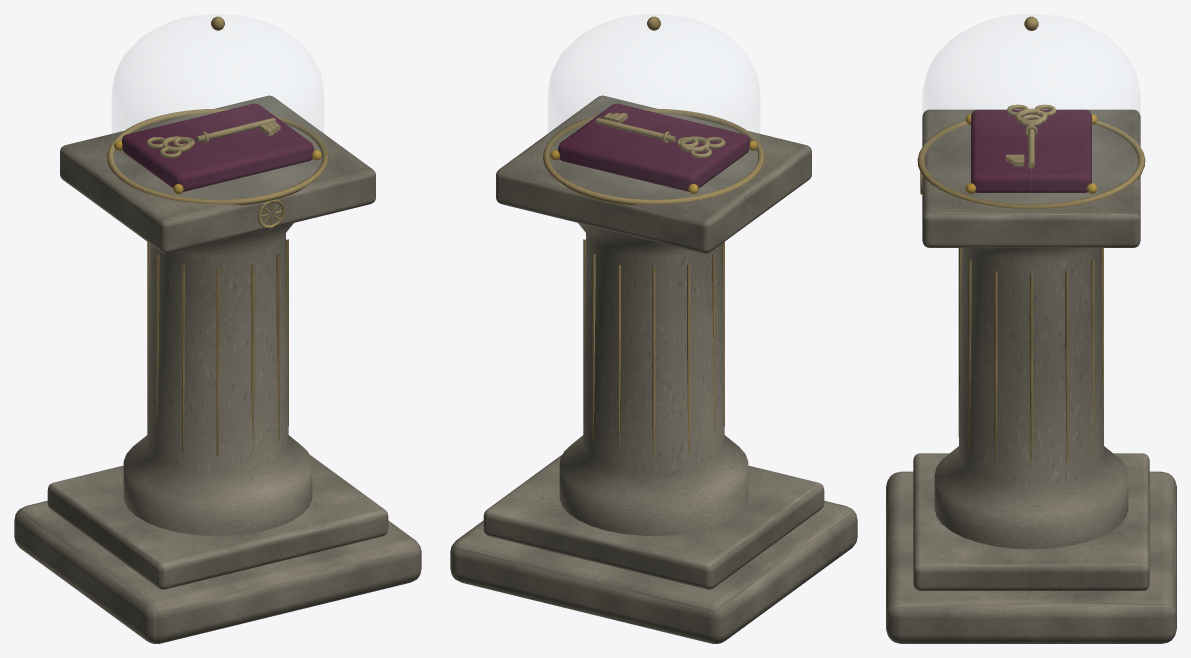
3 renders of one model, left to right at view 1: azimuth 30°, elevation 25°; view 2: azimuth 150°, elevation 25°; view 3: azimuth 270°, elevation 25°, orthographic. The views are drawn at different scales.
Parts seen in each view (by area): view 1: dressed stone, tooled stone trim, blown glass, velvet cushion, aged brass fittings; view 2: dressed stone, tooled stone trim, blown glass, velvet cushion, aged brass fittings; view 3: dressed stone, blown glass, tooled stone trim, velvet cushion, aged brass fittings.
Boxes of the visible parts, x1,y1,x2,y2 form: dressed stone: (14, 223, 421, 643); tooled stone trim: (47, 95, 388, 589); blown glass: (112, 14, 323, 198); velvet cushion: (122, 103, 313, 191); aged brass fittings: (107, 16, 328, 456); dressed stone: (450, 223, 857, 643); tooled stone trim: (483, 95, 824, 589); blown glass: (548, 14, 759, 198); velvet cushion: (558, 103, 749, 191); aged brass fittings: (543, 16, 764, 456); dressed stone: (886, 248, 1176, 643); blown glass: (923, 14, 1139, 203); tooled stone trim: (913, 109, 1149, 590); velvet cushion: (971, 109, 1091, 192); aged brass fittings: (917, 16, 1145, 467).
Size of the model in its own units: 0.54 by 1.02 by 0.48.
Materials: 6 (5 with a texture image).
